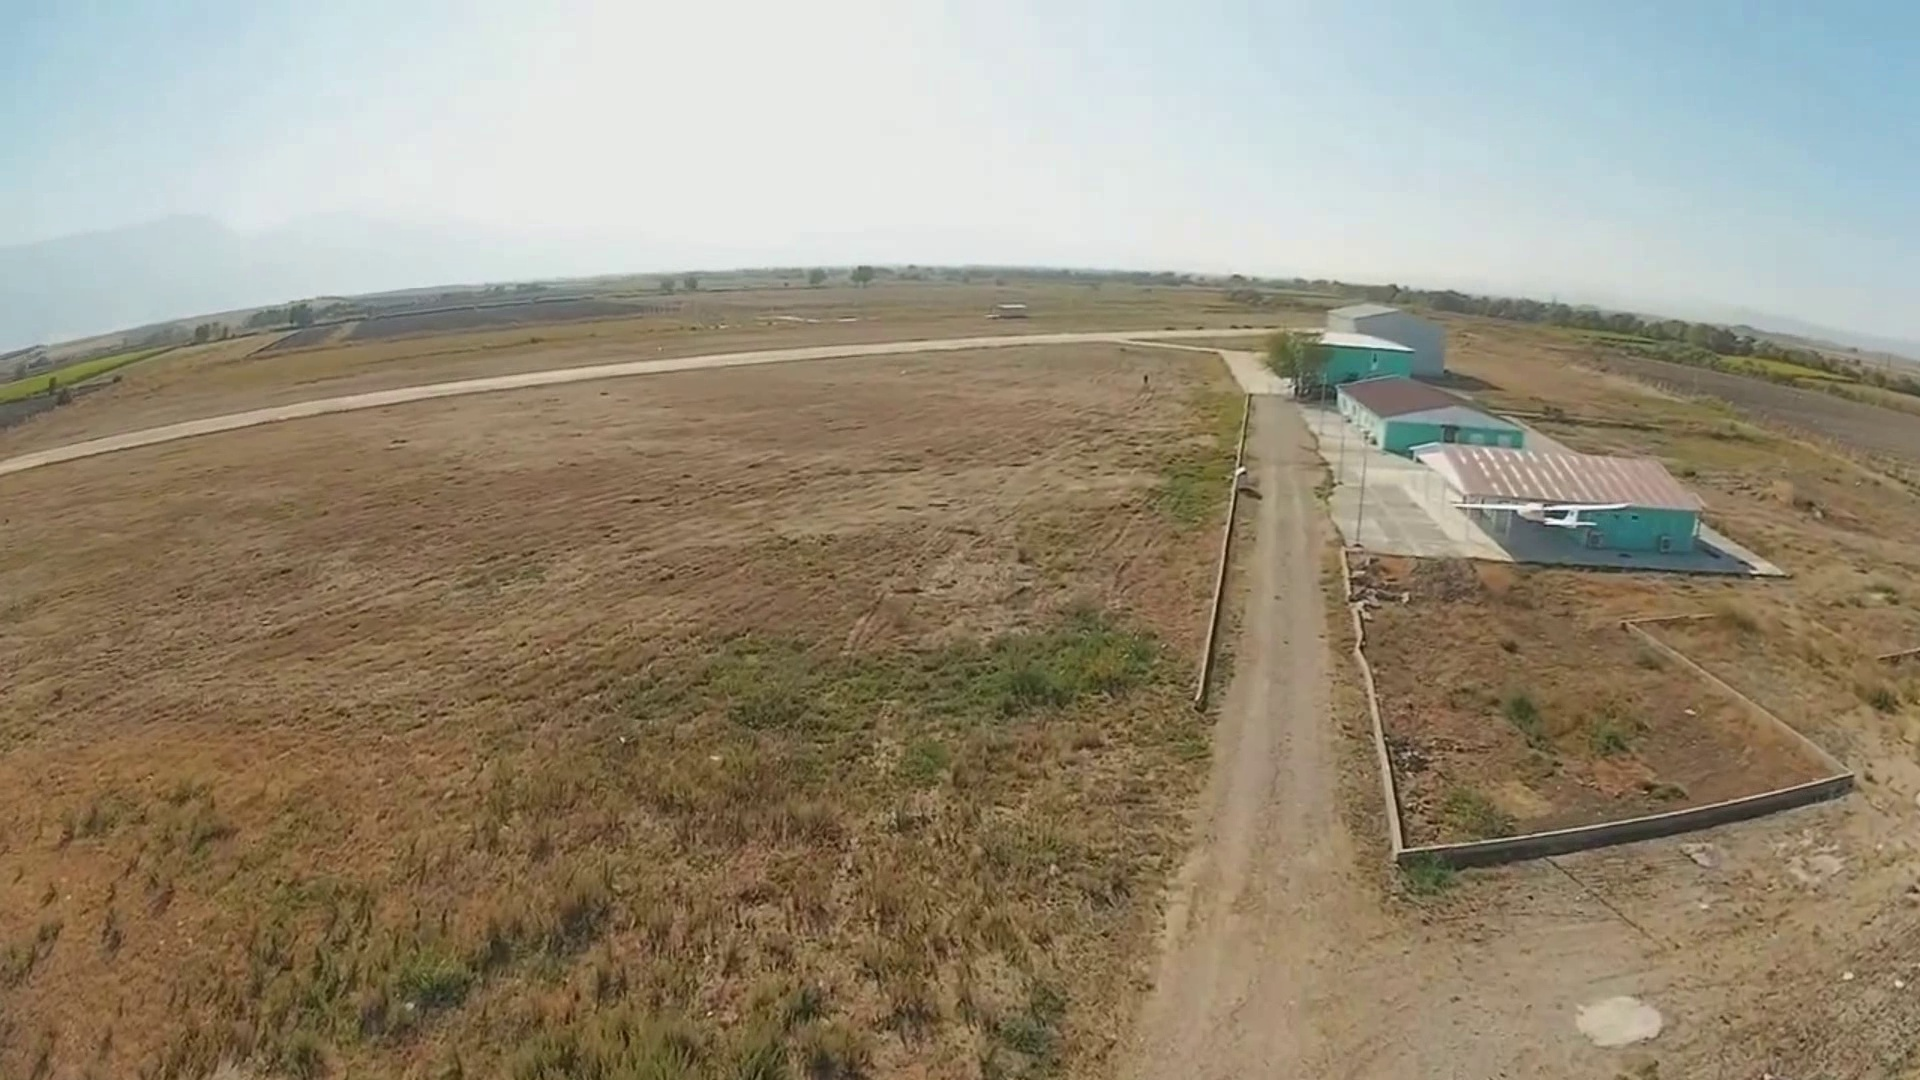airplane: (1323, 359, 1787, 582)
